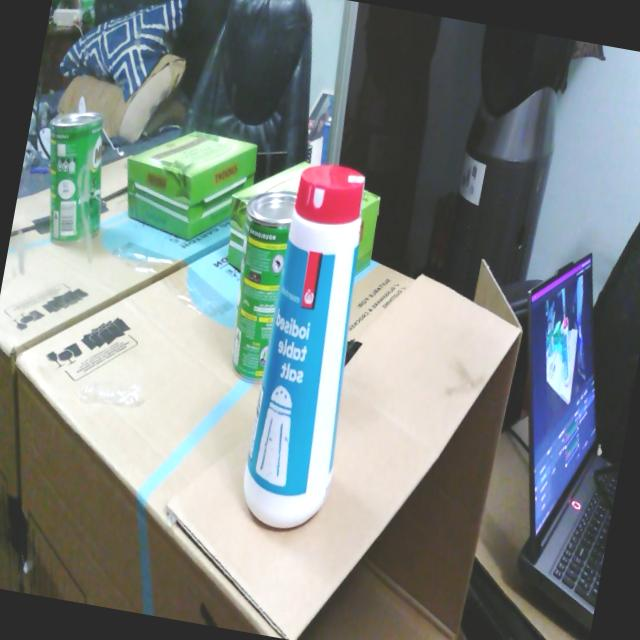nestle_milo_tin: (231, 190, 297, 384)
twinings_greentea_box: (227, 161, 311, 270), (355, 190, 380, 275)
woolworths_salt_bottle: (243, 165, 364, 528)
